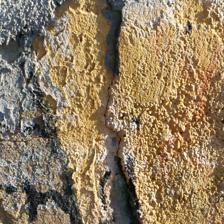Crack: (0, 0, 102, 86), (39, 17, 101, 129)
